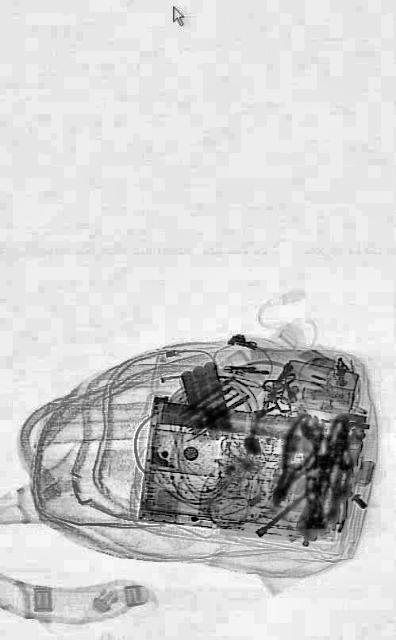Pliers: (260, 402, 330, 518)
